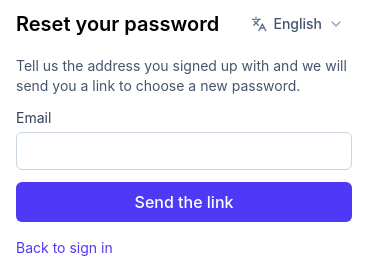
Test: ForgotPasswordPage (AUTH-4) › says the same thing whatever the address turns out to be
Type "ada@example.com" into the field labelled "Email". click: (184, 151)
box: [16,132,352,170]
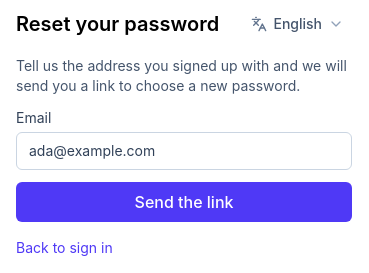
Click the button "Send the link". click: click(184, 202)
box: [16,182,352,222]
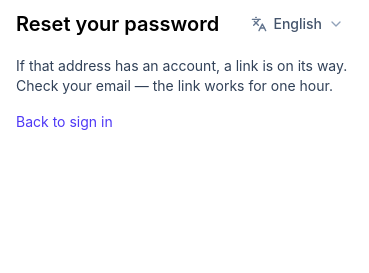
Check: the text "If that address has an account" is shown, box [16,57,347,94]
